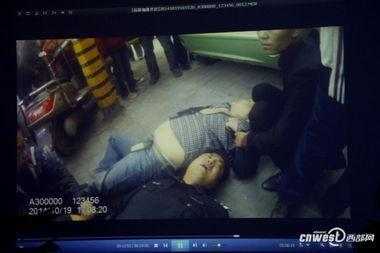Fall-Detected: (96, 88, 275, 191)
